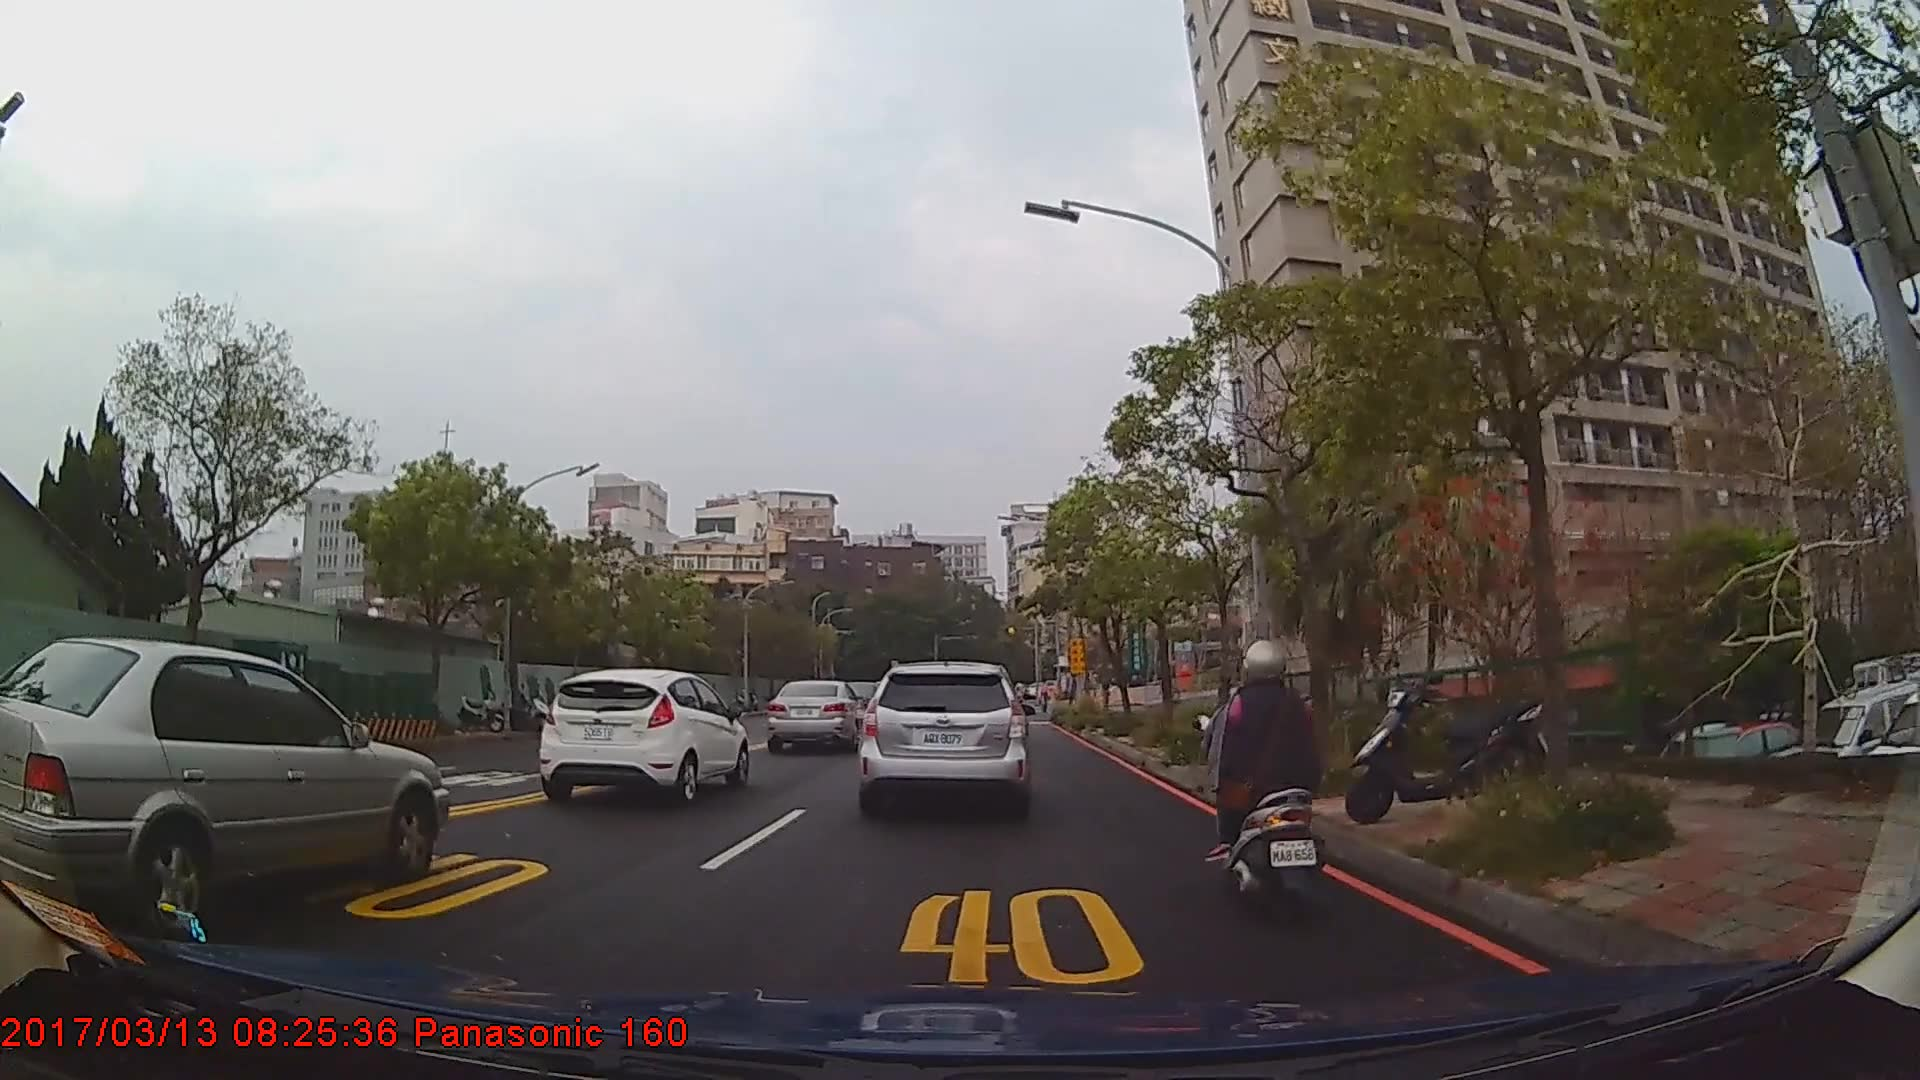rider: (1206, 636, 1344, 919)
vehicle: (0, 629, 448, 934), (535, 667, 747, 807), (857, 658, 1029, 820), (766, 677, 868, 753)
